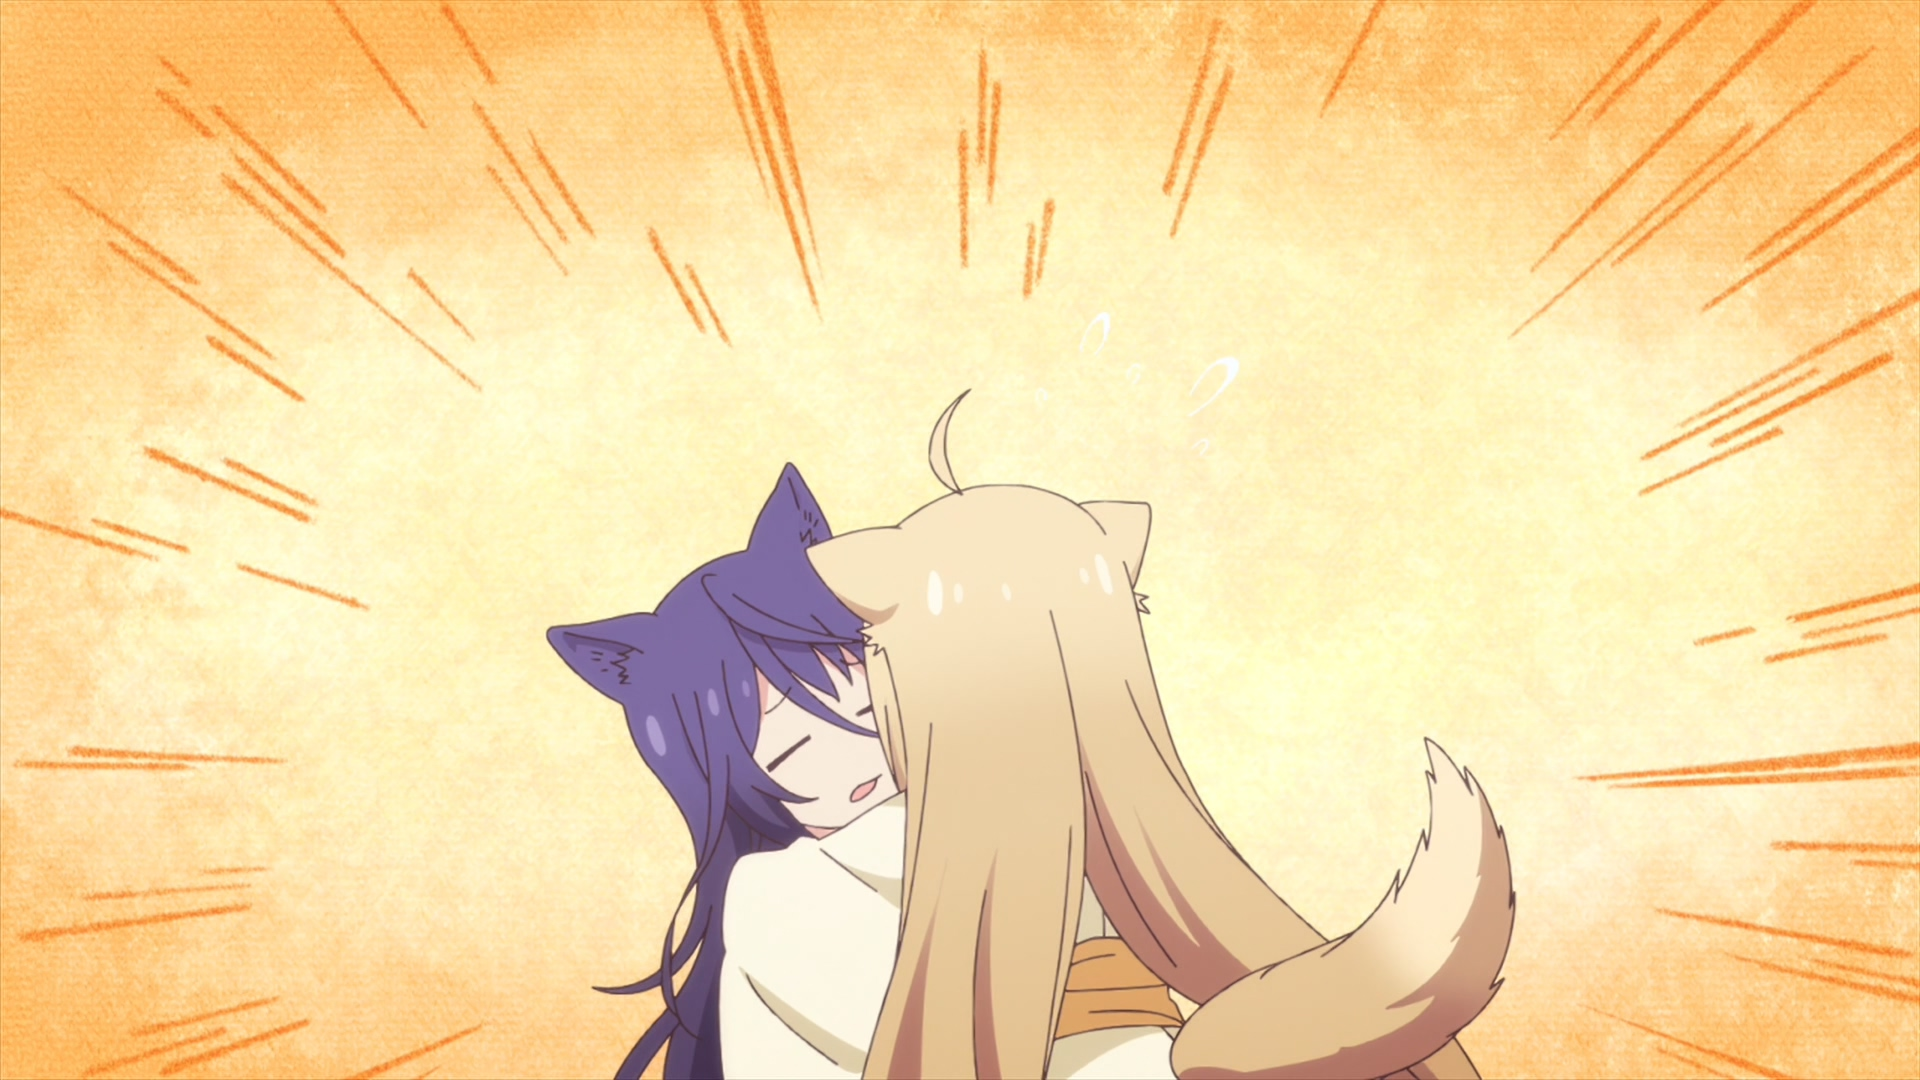柚: (808, 390, 1515, 1080)
皋: (549, 465, 897, 1080)
